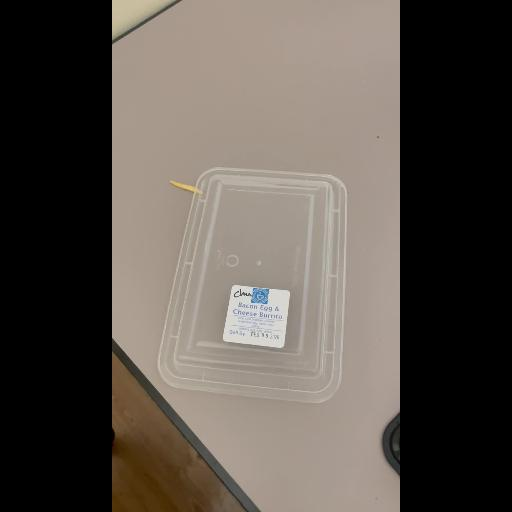rigid_plastic_lid: (160, 172, 346, 392)
